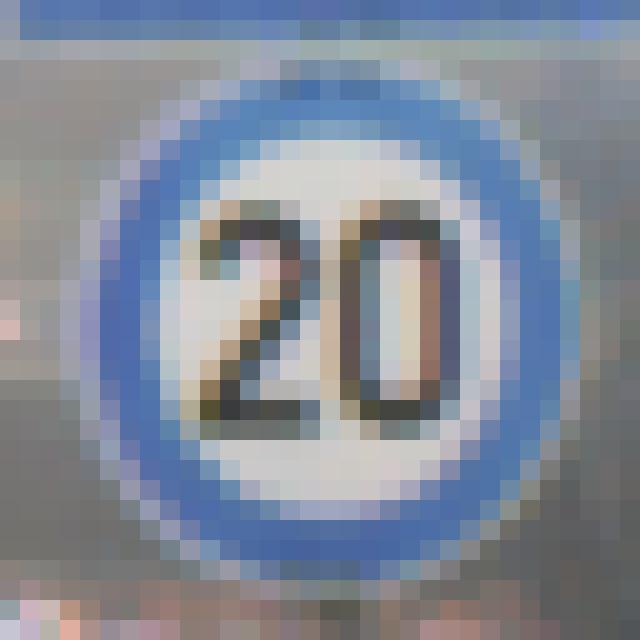SPEED LIMIT 20: (91, 60, 589, 598)
